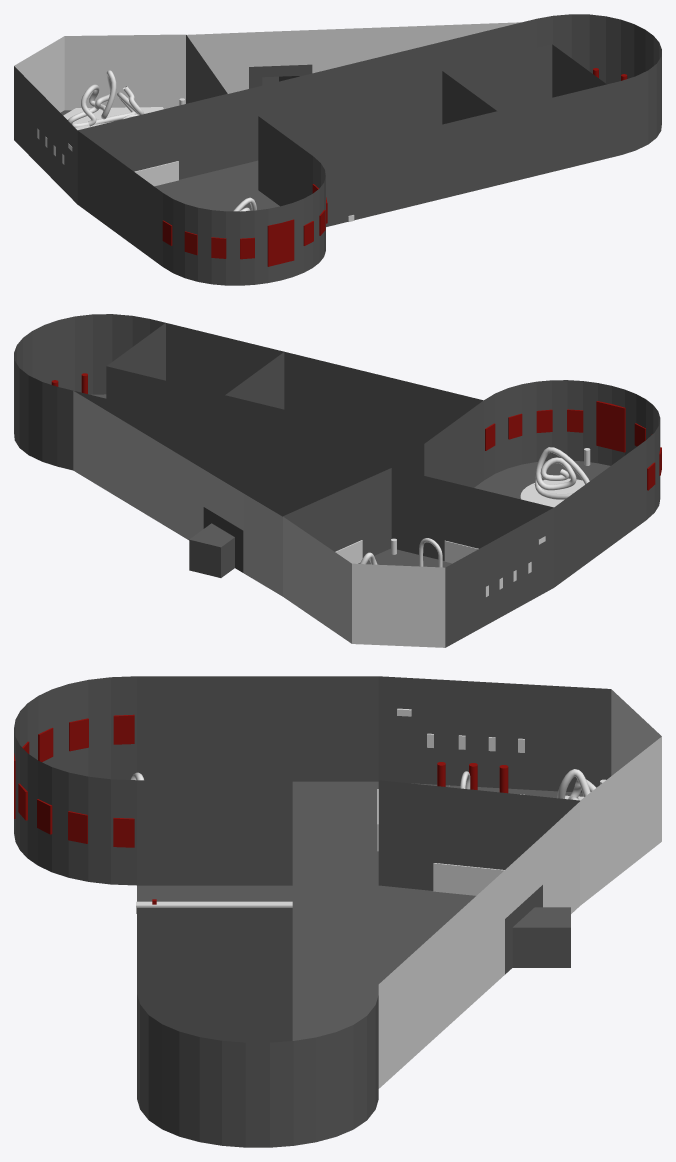
File: room layout reference complete for real.fbx
3 renders of one model, top to bottom at view 1: azimuth 30°, elevation 25°; view 2: azimuth 150°, elevation 25°; view 3: azimuth 270°, elevation 25°, orthographic. The views are drawn at different scales.
Visible parts, largest first — view 1: Cafe + Gift Shop Walls, EH2 Walls, EH1 Walls, Lobby Walls, EH3 Walls, Window, Lobby Window, EH2 Floor, Funky Sculpt, BIG EH2 Painting, Door to EH2, Funky Sculpt Base (+1 smaller); view 2: Cafe + Gift Shop Walls, EH1 Walls, EH2 Walls, Lobby Window, Lobby Walls, Window, EH3 Walls, EH2 Floor, EH2 Centerpiece, BIG EH2 Painting, EH1 Floor, EH2 Centerpiece Base; view 3: EH2 Walls, EH1 Walls, EH3 Walls, Cafe + Gift Shop Walls, Lobby Window, Hall Floor, Window, EH2 Floor, Lobby Floor, Lobby Walls, Cafe Floor, Door to Lobby (+2 smaller).
Part boxes in pixels (x1,y1,x2,y2): Cafe + Gift Shop Walls: (258, 44, 606, 226); EH2 Walls: (77, 116, 325, 285); EH1 Walls: (14, 35, 227, 204); Lobby Walls: (227, 22, 521, 167); EH3 Walls: (522, 14, 661, 158); Window: (14, 34, 185, 112); Lobby Window: (187, 22, 520, 93); EH2 Floor: (154, 168, 279, 211); Funky Sculpt: (68, 70, 144, 127); BIG EH2 Painting: (267, 219, 294, 266); Door to EH2: (134, 161, 178, 186); Funky Sculpt Base: (63, 107, 163, 130); Cafe + Gift Shop Walls: (106, 323, 483, 475); EH1 Walls: (283, 468, 553, 647); EH2 Walls: (424, 380, 660, 587); Lobby Window: (73, 391, 282, 596); Lobby Walls: (74, 391, 390, 577); Window: (283, 516, 445, 647); EH3 Walls: (14, 314, 165, 470); EH2 Floor: (474, 461, 610, 499); EH2 Centerpiece: (534, 447, 589, 499); BIG EH2 Painting: (596, 401, 625, 452); EH1 Floor: (366, 548, 452, 567); EH2 Centerpiece Base: (520, 478, 584, 507); EH2 Walls: (14, 676, 378, 885); EH1 Walls: (378, 676, 611, 890); EH3 Walls: (137, 994, 378, 1147); Cafe + Gift Shop Walls: (137, 907, 292, 1042); Lobby Window: (378, 801, 580, 1088); Hall Floor: (292, 885, 378, 1040); Window: (580, 689, 661, 905); EH2 Floor: (292, 781, 378, 885); Lobby Floor: (378, 885, 475, 983); Lobby Walls: (505, 885, 570, 974); Cafe Floor: (137, 885, 292, 901); Door to Lobby: (433, 863, 504, 895).
Size of the model in its own units: 40126 by 5616 by 29951.
